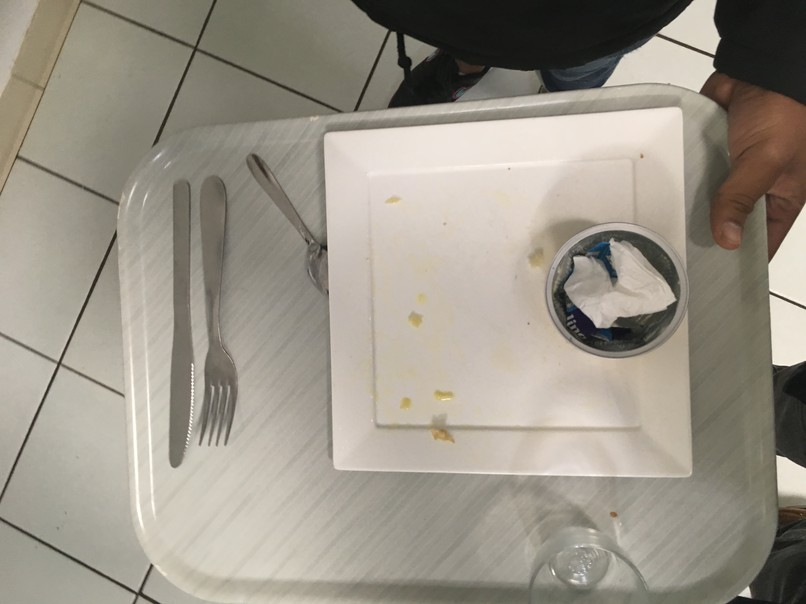cup: (531, 526, 658, 604)
cutlery: (241, 148, 337, 302), (192, 168, 243, 451), (154, 178, 200, 475)
trash: (548, 206, 691, 370)
